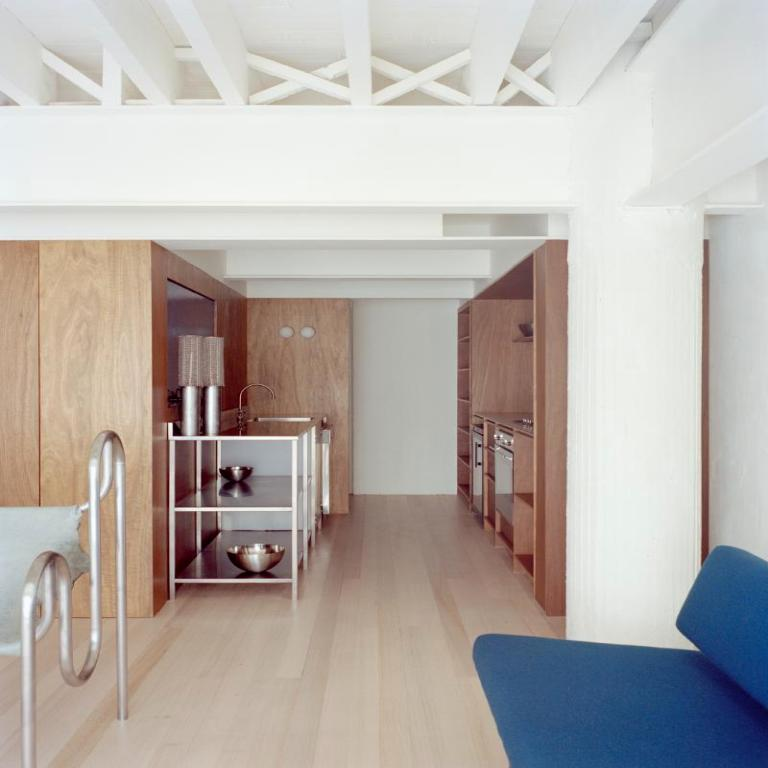white-walls: (4, 129, 634, 201)
